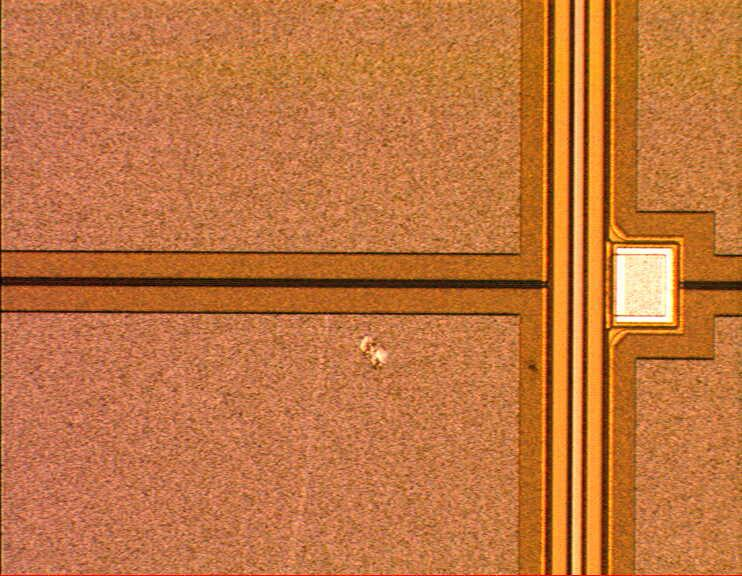SCRATCH: (276, 1, 426, 576)
